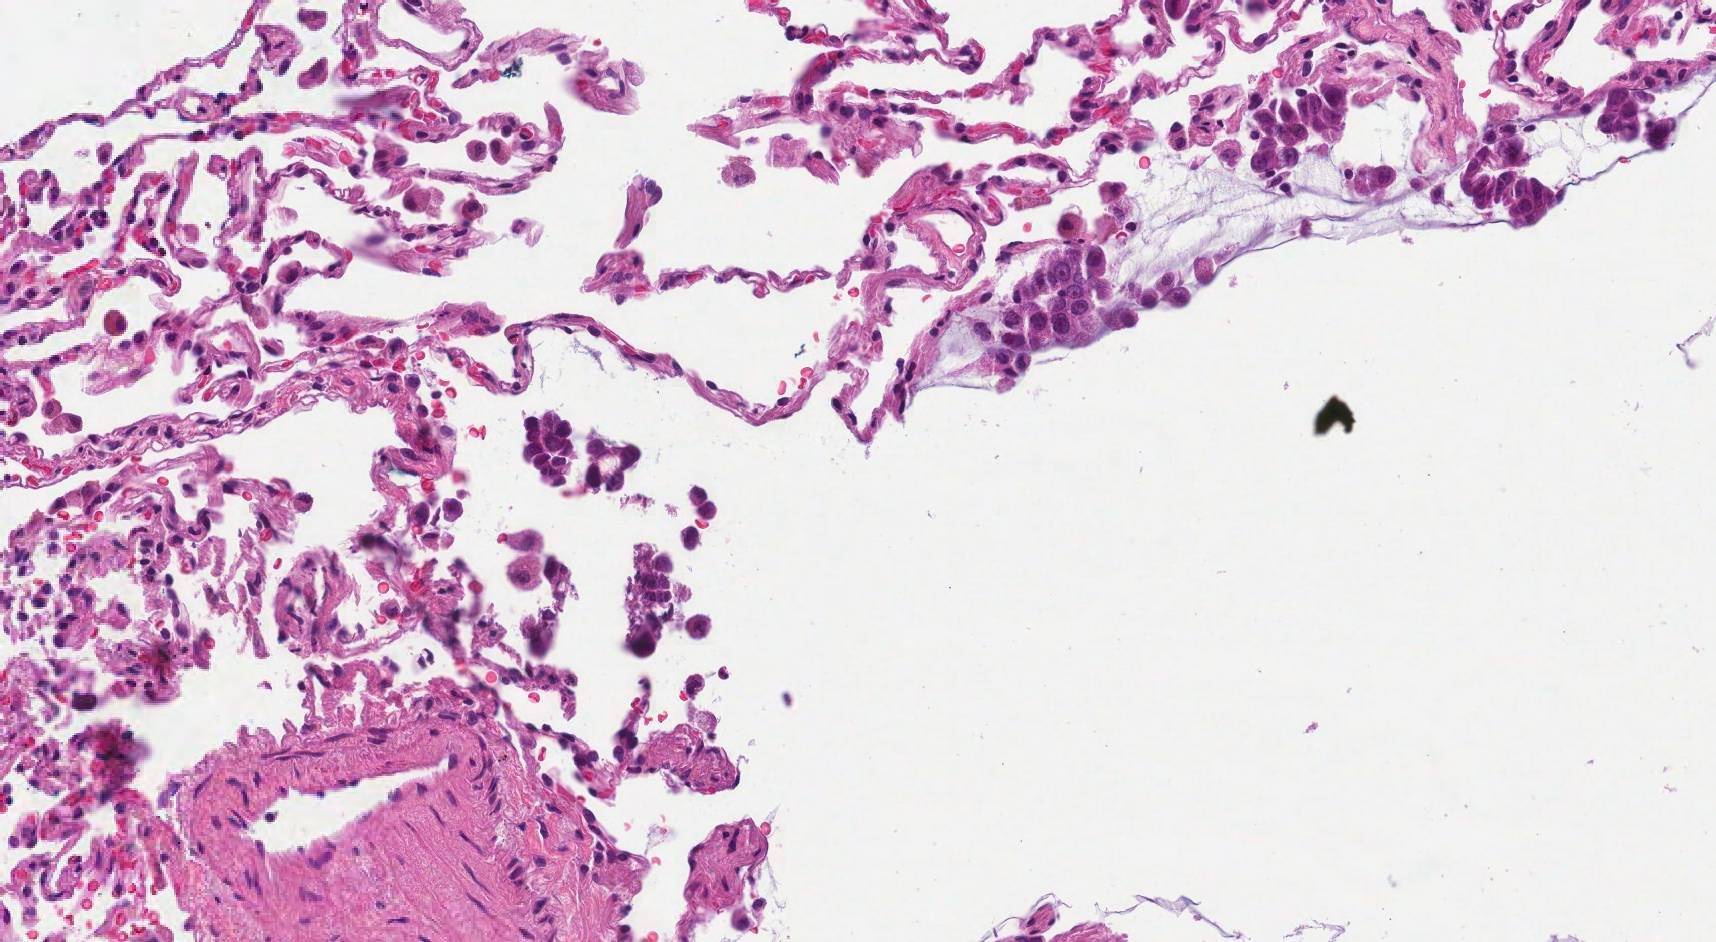stas: (973, 249, 1191, 378), (520, 410, 642, 496), (1250, 88, 1353, 179), (1469, 127, 1558, 228), (625, 545, 693, 659), (1598, 84, 1676, 152)
